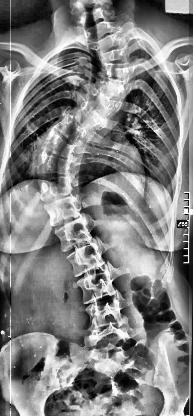Vertebrae: (53, 218, 95, 254), (66, 242, 108, 278), (76, 270, 116, 306), (83, 299, 125, 333), (42, 195, 84, 227), (39, 130, 78, 162), (82, 329, 130, 355), (74, 99, 114, 130), (52, 110, 92, 141), (88, 90, 128, 118), (35, 176, 77, 202), (35, 153, 77, 177), (89, 32, 129, 52), (96, 77, 132, 99), (98, 48, 132, 66), (104, 62, 134, 82)
